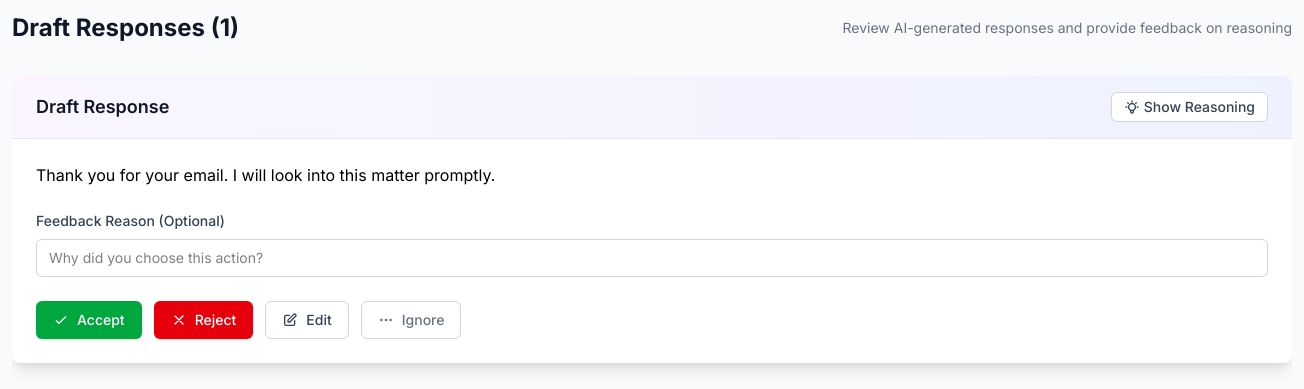
Test case: EnhancedDraftViewer Integration › integrates draft actions with reasoning feedback
The width and height of the screenshot is (1304, 389).
Add a reason
Type "Great response!" into the field with placeholder "Why did you choose this action?" at (652, 258), box [36, 239, 1268, 277]
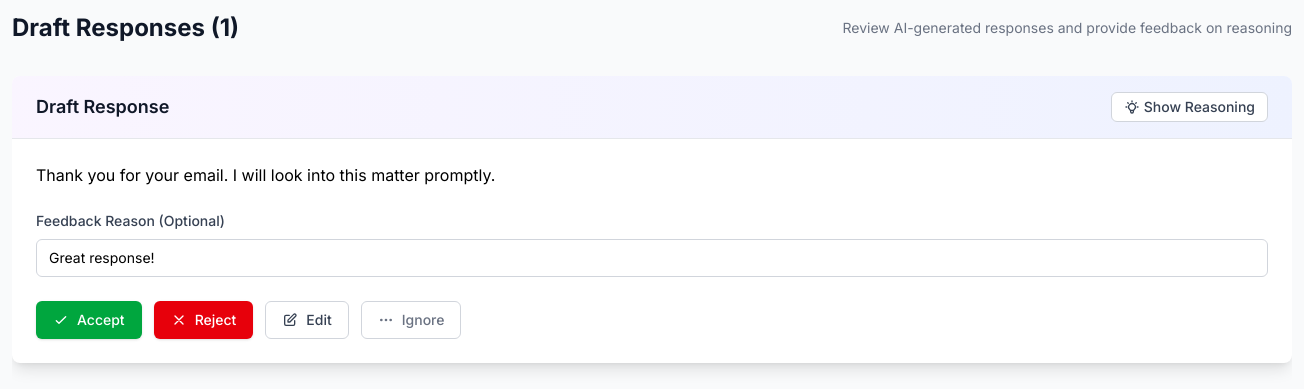
Accept the draft
Click the button "Accept" at (89, 320), box [36, 301, 142, 339]
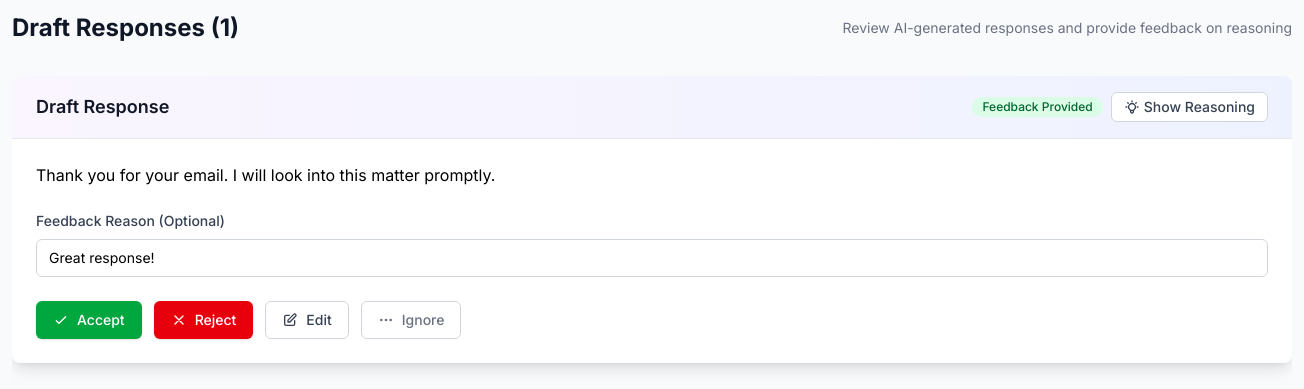
expect the text "Feedback Provided" is shown: met, box [972, 97, 1103, 117]
